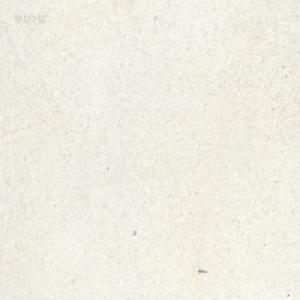Nail: (197, 266, 207, 273)
